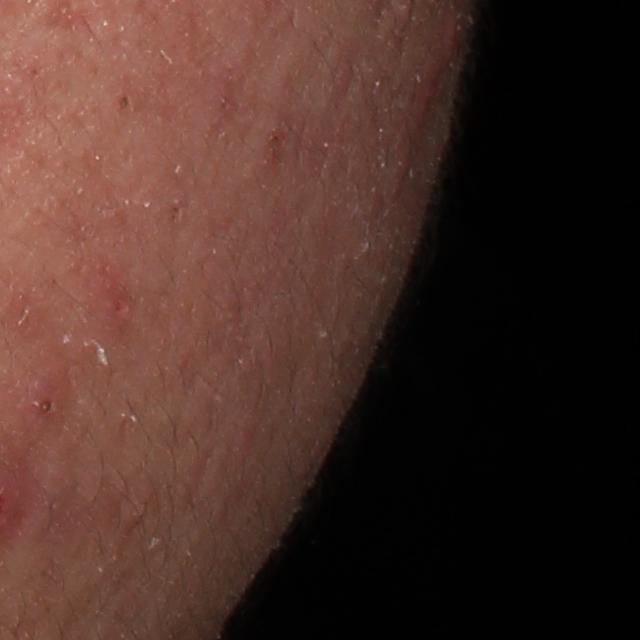comedo: (115, 90, 138, 117)
papule: (13, 359, 74, 428)
